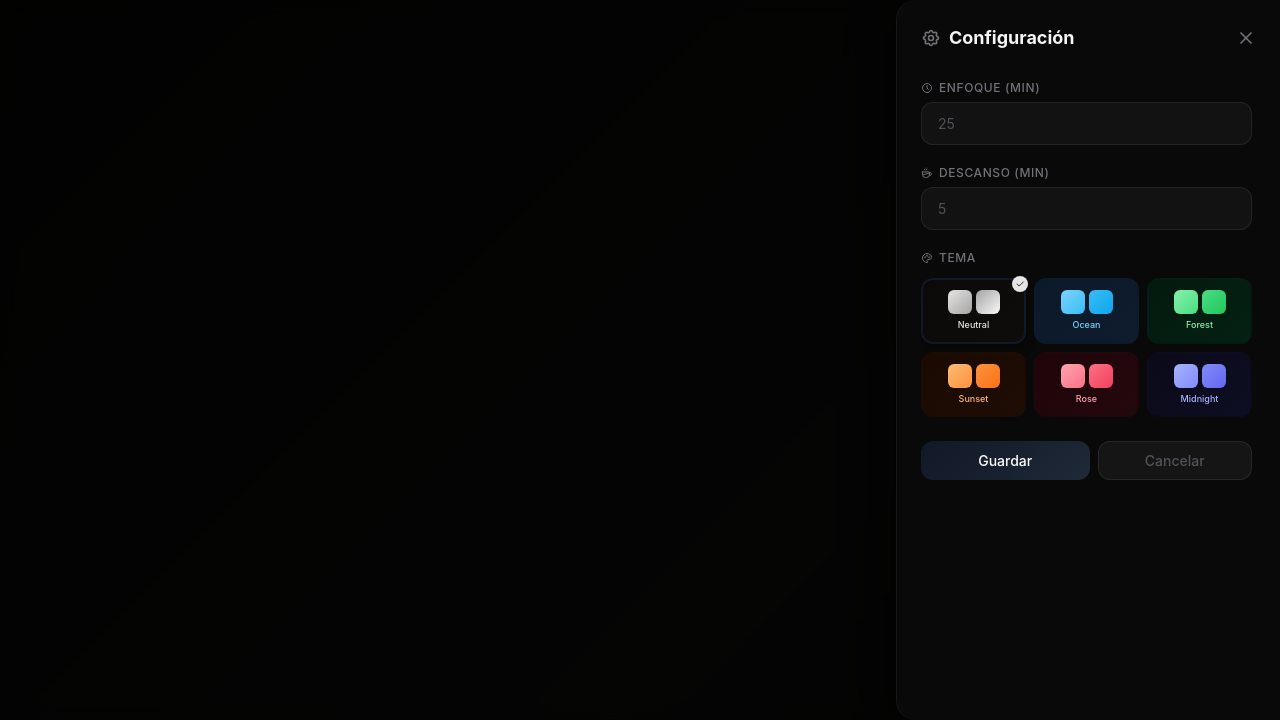
Test: Panels presented as drawers › SettingsPanel clamps an out-of-range value to the field limit on save
Replace the text in the field labelled "Enfoque (min)" with "999" at point(1086, 124), box [921,102,1252,145]
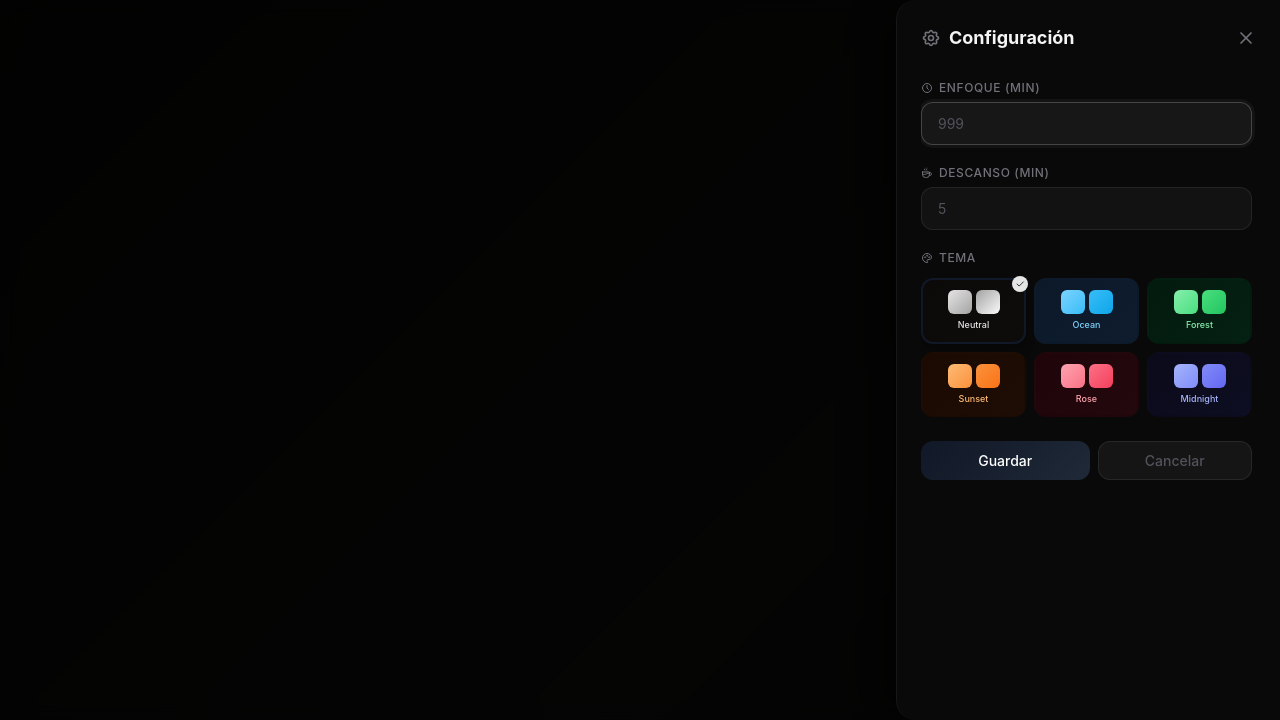
Click the button "Guardar" at point(1005, 460), box [921,441,1090,480]
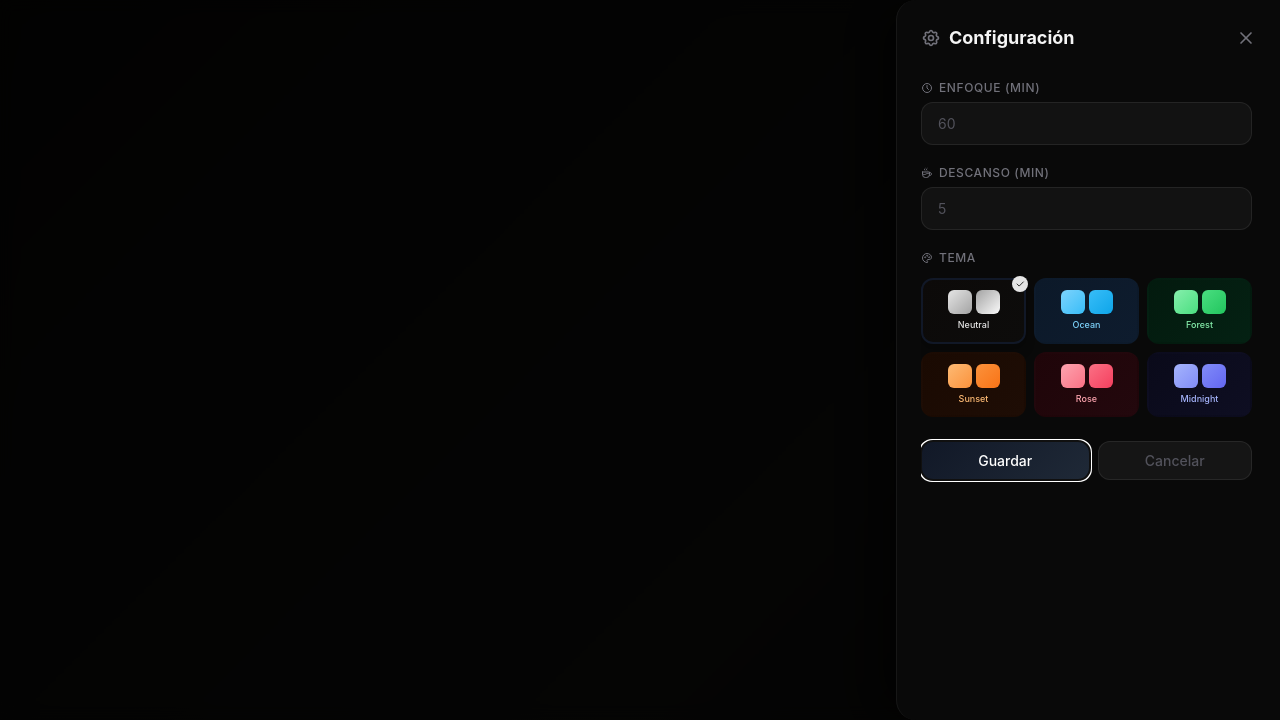
Check: the field labelled "Enfoque (min)" holds "60", box [921,102,1252,145]
